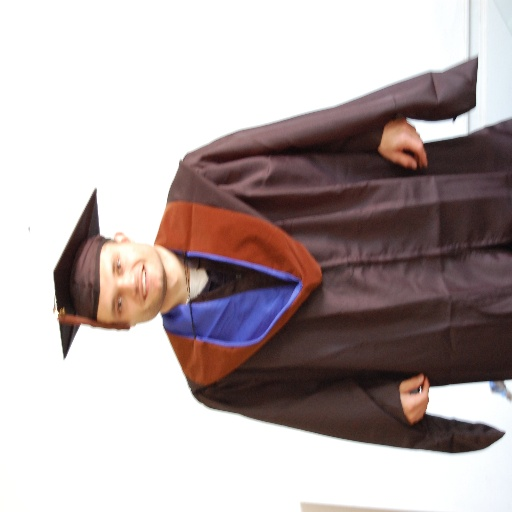hand: (385, 108, 439, 161), (398, 373, 430, 425)
